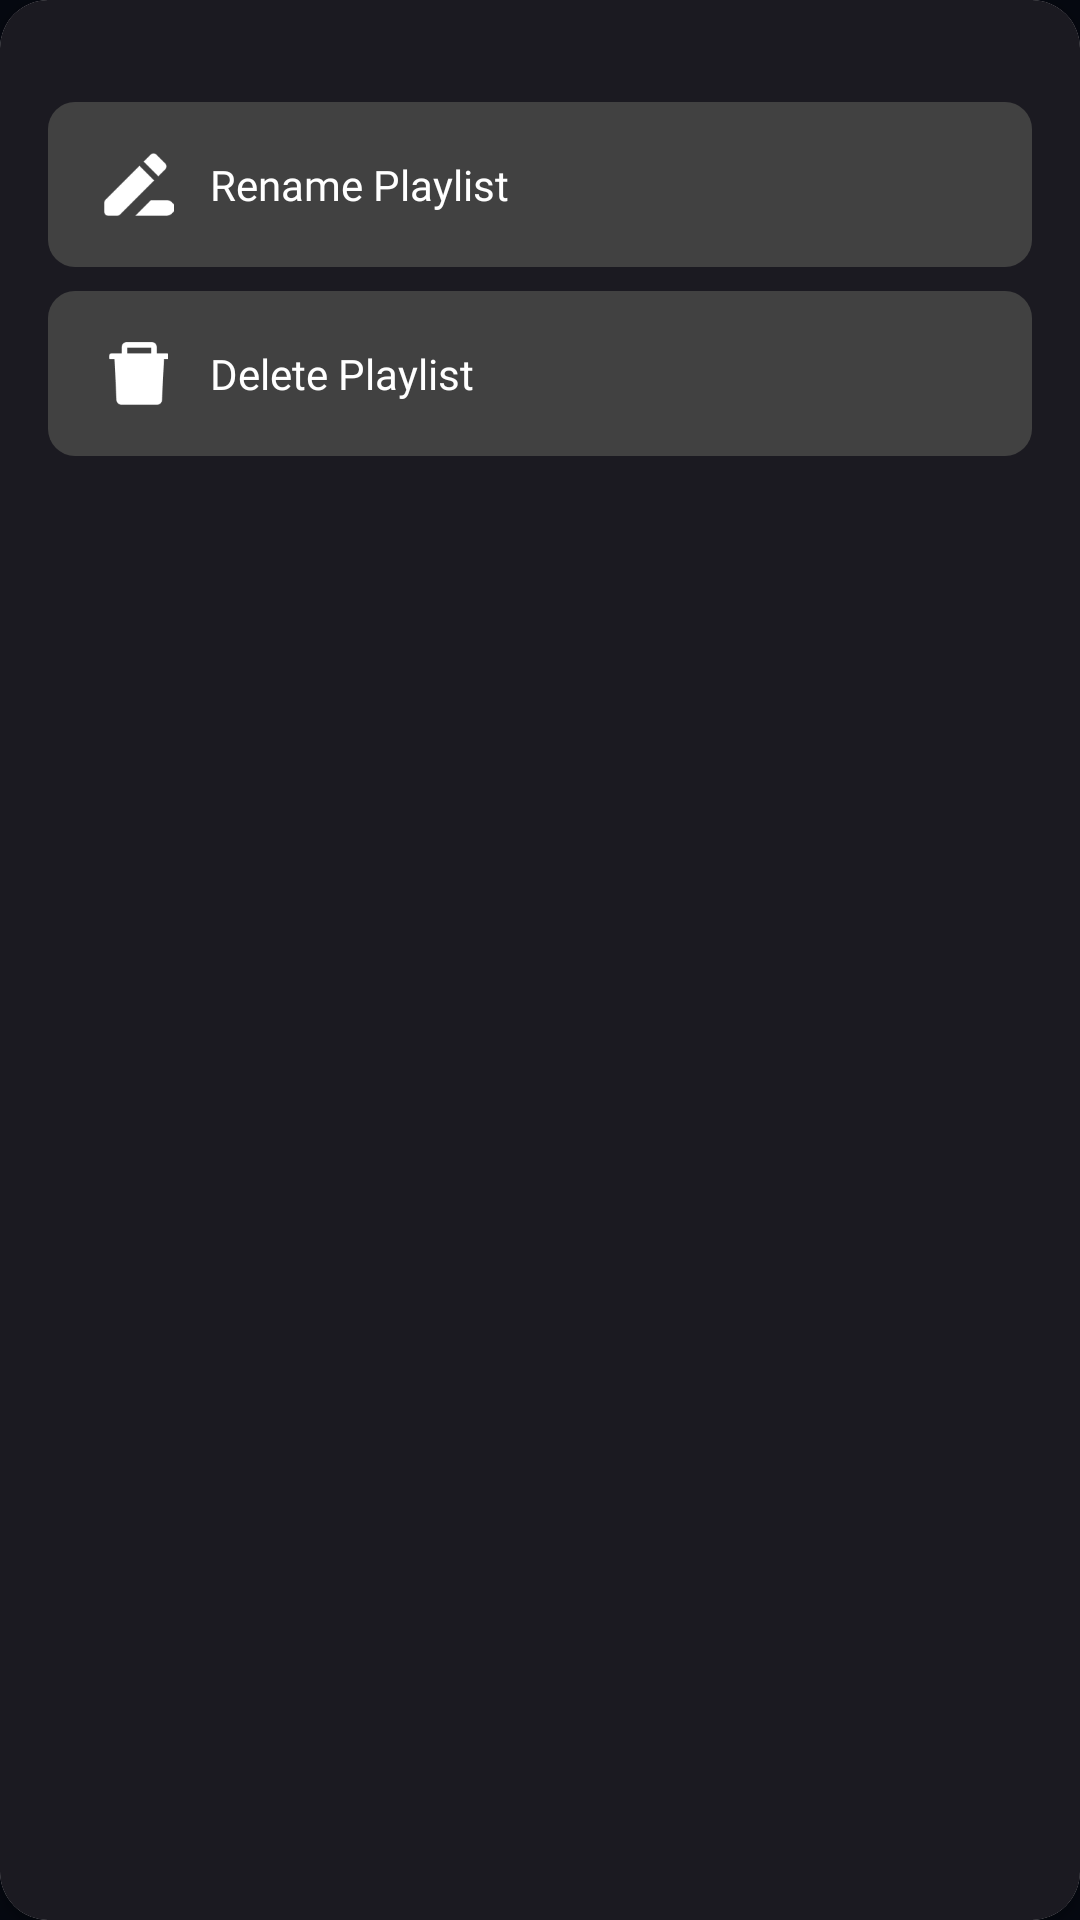

Where icons sit on this 1080w x 1920h app screen, as box(x1, y1, x2, y2):
edit note: box(104, 153, 174, 216)
